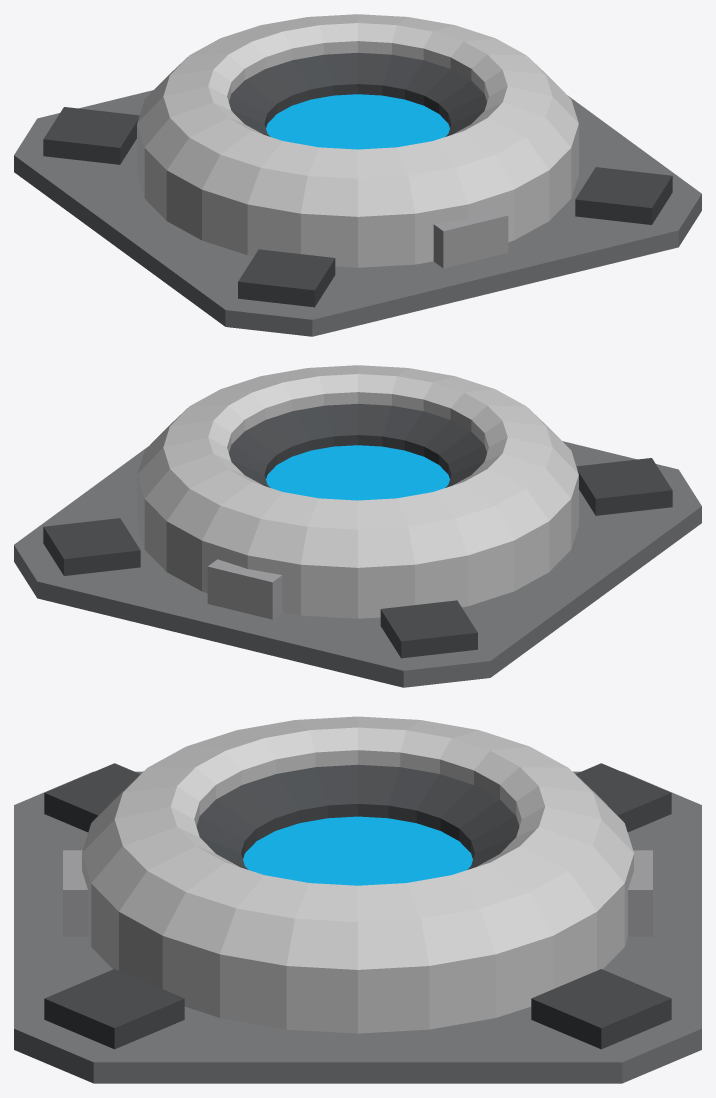
The model's file is grav_engine.obj.
3 views of the same model, one above another, from view 1: azimuth 30°, elevation 25°; view 2: azimuth 150°, elevation 25°; view 3: azimuth 270°, elevation 25° (orthographic). The views are drawn at different scales.
Visible parts, largest first — view 1: grav_engine_5, grav_engine_0, grav_engine_6, grav_engine_7, grav_engine_1, grav_engine_3, grav_engine_2, grav_engine_8; view 2: grav_engine_5, grav_engine_0, grav_engine_6, grav_engine_7, grav_engine_2, grav_engine_4, grav_engine_1, grav_engine_9; view 3: grav_engine_5, grav_engine_0, grav_engine_6, grav_engine_7, grav_engine_3, grav_engine_4, grav_engine_1, grav_engine_2, grav_engine_8, grav_engine_9.
Part boxes in pixels (bbox=[...]): grav_engine_5: bbox=[137, 14, 578, 267]; grav_engine_0: bbox=[14, 90, 701, 336]; grav_engine_6: bbox=[229, 52, 486, 136]; grav_engine_7: bbox=[266, 94, 449, 149]; grav_engine_1: bbox=[238, 249, 335, 307]; grav_engine_3: bbox=[575, 167, 672, 224]; grav_engine_2: bbox=[43, 107, 139, 164]; grav_engine_8: bbox=[433, 208, 508, 268]; grav_engine_5: bbox=[137, 365, 578, 618]; grav_engine_0: bbox=[14, 441, 701, 687]; grav_engine_6: bbox=[229, 403, 486, 487]; grav_engine_7: bbox=[266, 445, 449, 500]; grav_engine_2: bbox=[380, 600, 477, 658]; grav_engine_4: bbox=[43, 518, 140, 575]; grav_engine_1: bbox=[576, 458, 672, 515]; grav_engine_9: bbox=[207, 559, 282, 619]; grav_engine_5: bbox=[82, 716, 633, 1033]; grav_engine_0: bbox=[14, 771, 701, 1083]; grav_engine_6: bbox=[196, 764, 519, 869]; grav_engine_7: bbox=[243, 816, 472, 885]; grav_engine_3: bbox=[44, 969, 184, 1049]; grav_engine_4: bbox=[531, 969, 671, 1049]; grav_engine_1: bbox=[44, 763, 140, 832]; grav_engine_2: bbox=[575, 763, 671, 832]; grav_engine_8: bbox=[63, 850, 87, 936]; grav_engine_9: bbox=[628, 850, 652, 936].
Size of the model in its own units: 2.94 by 0.62 by 2.94.
